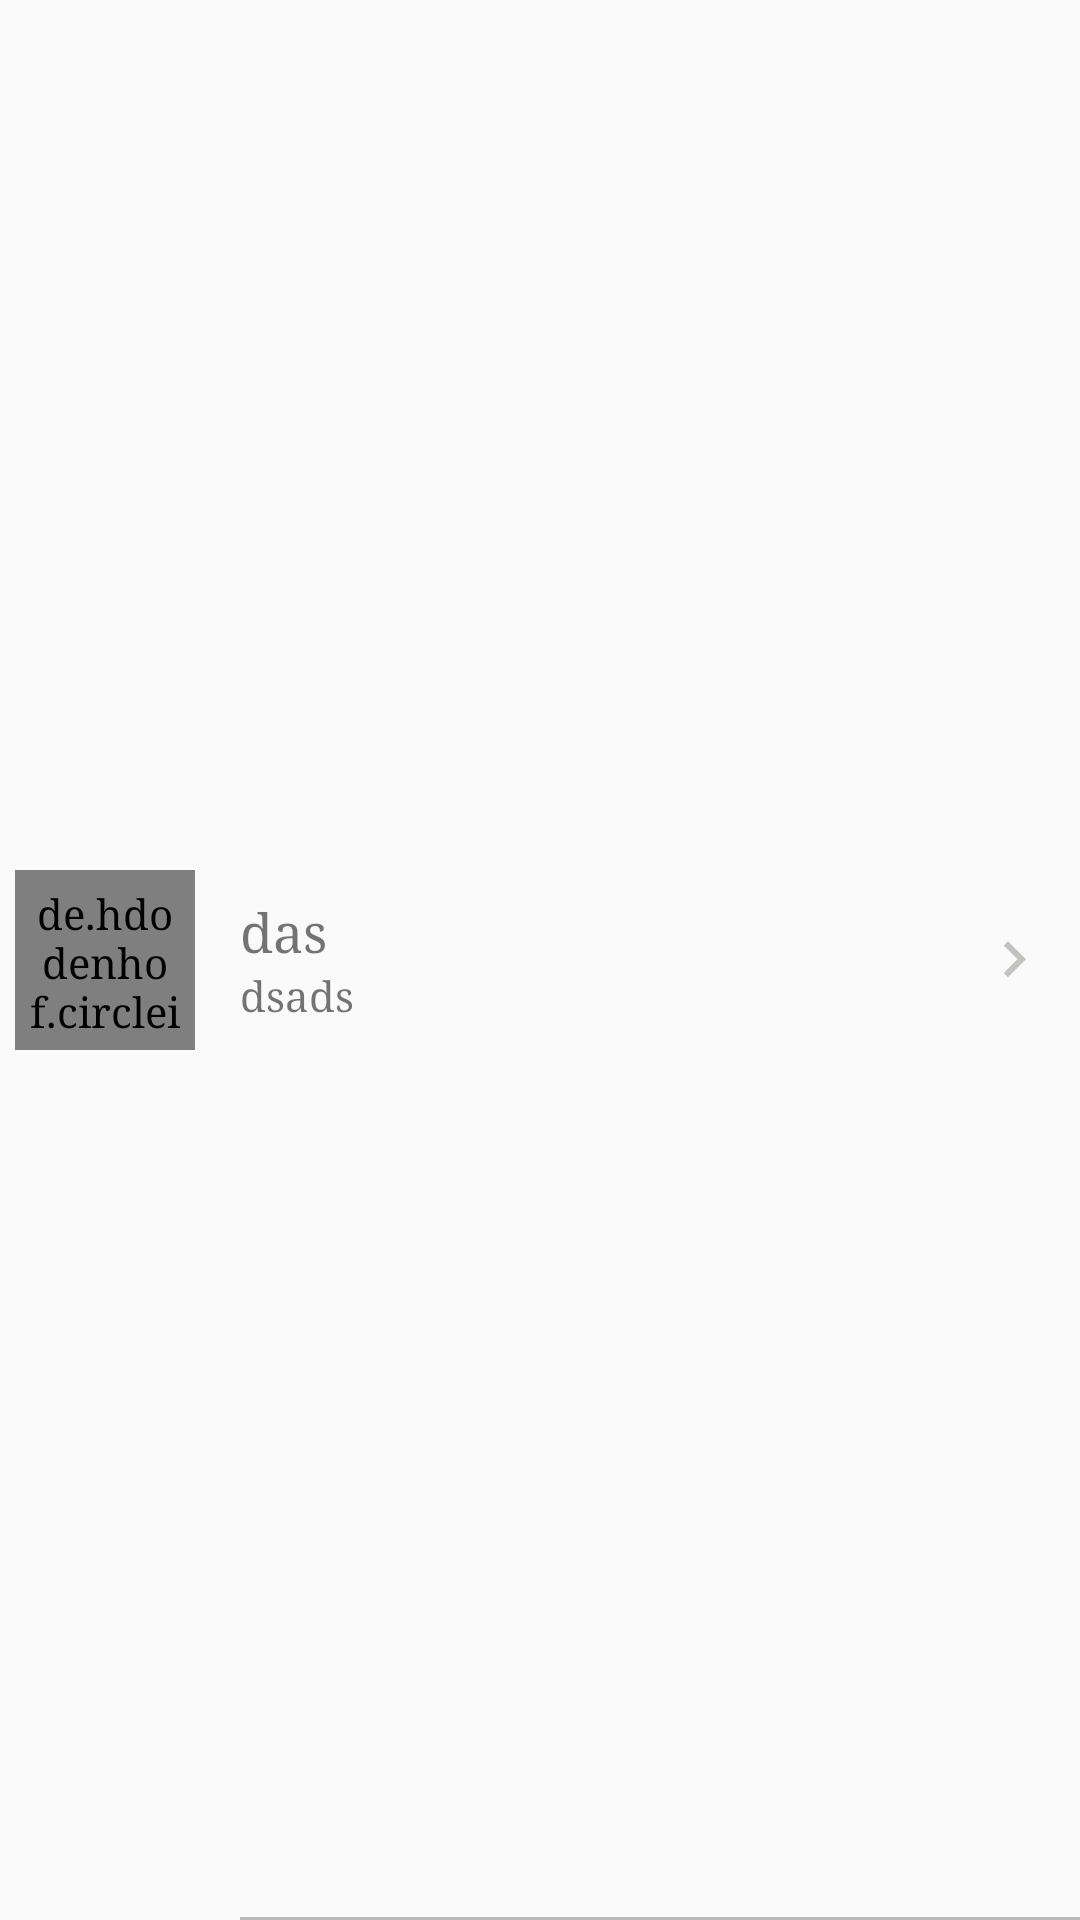

Screen size 1080 x 1920. Icon name, then its center in pixels as [x,y]:
keyboard arrow right: [1015,959]
